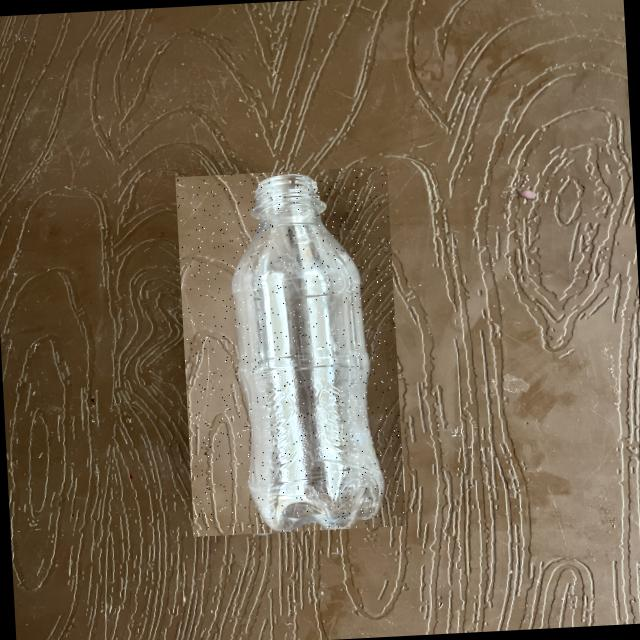PET_ClearBottle: (175, 166, 406, 537)
